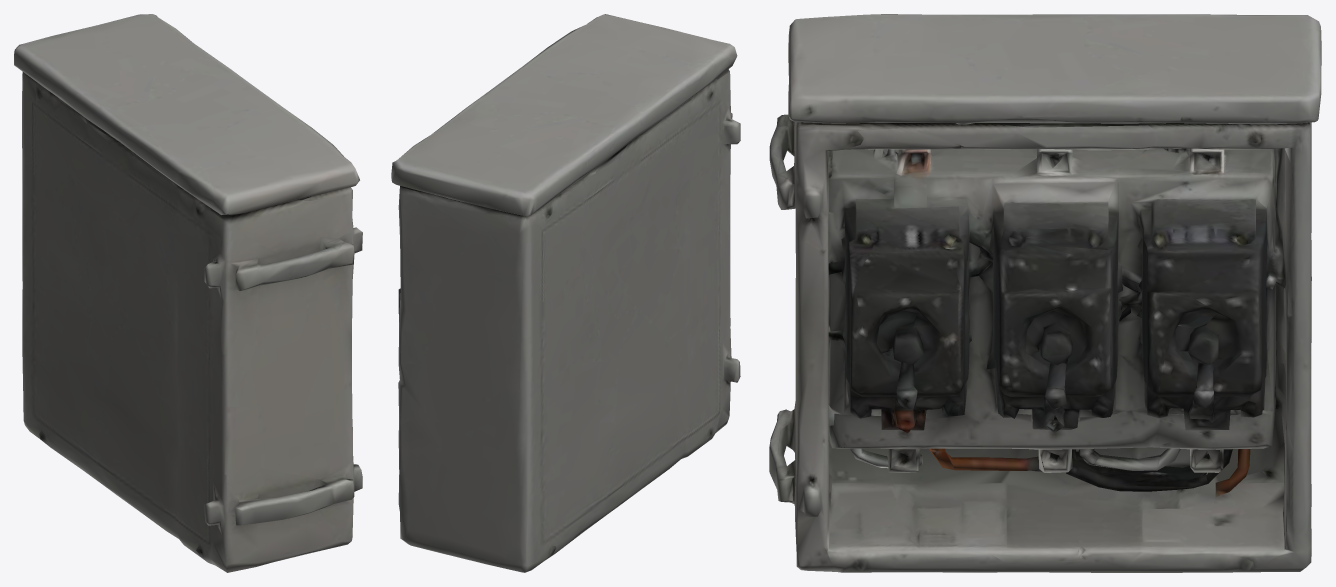
Rendered from breaker.glb.
The picture shows the model from 3 angles, left to right: view 1: azimuth 30°, elevation 25°; view 2: azimuth 150°, elevation 25°; view 3: azimuth 270°, elevation 25°; orthographic projection. The views are drawn at different scales.
Visible parts, largest first — view 1: tripo_node_65d4b791-8ff9-4afb-bb87-0fca39373ba3; view 2: tripo_node_65d4b791-8ff9-4afb-bb87-0fca39373ba3; view 3: tripo_node_65d4b791-8ff9-4afb-bb87-0fca39373ba3.
Boxes of the visible parts, bbox=[...] form: tripo_node_65d4b791-8ff9-4afb-bb87-0fca39373ba3: bbox=[14, 14, 362, 572]; tripo_node_65d4b791-8ff9-4afb-bb87-0fca39373ba3: bbox=[391, 14, 740, 572]; tripo_node_65d4b791-8ff9-4afb-bb87-0fca39373ba3: bbox=[769, 14, 1321, 572].
Bounding box in the file's own units: 0.4707 × 0.9652 × 1.
Materials: 1 (1 with a texture image).
